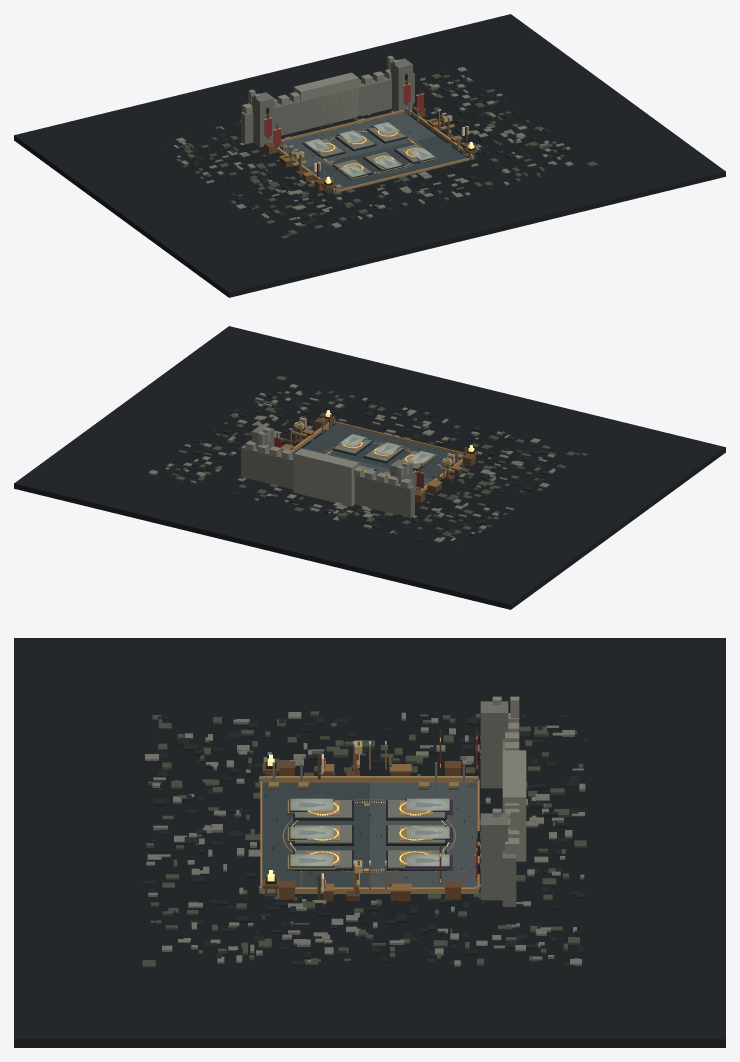
File: castle.glb
3 renders of one model, top to bottom at view 1: azimuth 30°, elevation 25°; view 2: azimuth 150°, elevation 25°; view 3: azimuth 270°, elevation 25°, orthographic. The views are drawn at different scales.
Parts seen in each view (by area): view 1: Bedrock, Outer_Rubble, Castle_Wall, Enemy_Floor, Friendly_Floor, Gatehouse, Towers, Six_Grounded_Foundations, Arena_Curb, Battlements, Banners; view 2: Bedrock, Outer_Rubble, Castle_Wall, Gatehouse, Friendly_Floor, Battlements, Six_Grounded_Foundations, Towers, Arena_Curb; view 3: Bedrock, Outer_Rubble, Enemy_Floor, Friendly_Floor, Towers, Six_Grounded_Foundations, Arena_Curb, Gatehouse, Props, Barrels, Battlements, Castle_Wall.
Boxes of the visible parts, x1,y1,x2,y2 form: Bedrock: (14,14,725,297); Outer_Rubble: (158,67,597,238); Castle_Wall: (241,73,414,144); Enemy_Floor: (278,112,436,167); Friendly_Floor: (307,136,468,191); Gatehouse: (293,72,358,130); Towers: (248,55,412,147); Six_Grounded_Foundations: (304,127,422,179); Arena_Curb: (268,109,472,192); Battlements: (242,69,391,113); Banners: (264,79,424,147); Bedrock: (14,326,725,609); Outer_Rubble: (148,375,587,546); Castle_Wall: (241,445,414,517); Gatehouse: (293,448,358,506); Friendly_Floor: (303,424,464,479); Battlements: (245,440,411,488); Six_Grounded_Foundations: (332,439,435,477); Towers: (251,425,412,485); Arena_Curb: (291,421,464,491); Bedrock: (14,638,725,1047); Outer_Rubble: (142,711,587,967); Enemy_Floor: (370,782,477,887); Friendly_Floor: (262,782,369,887); Towers: (480,696,519,900); Six_Grounded_Foundations: (293,800,446,870); Arena_Curb: (260,776,479,893); Gatehouse: (502,750,526,861); Props: (278,761,461,899); Barrels: (323,764,411,901); Battlements: (505,713,519,853); Castle_Wall: (502,739,516,906).
Bounding box in the file's own units: 48 × 4.95 × 36.
Materials: 35 (1 with a texture image).
